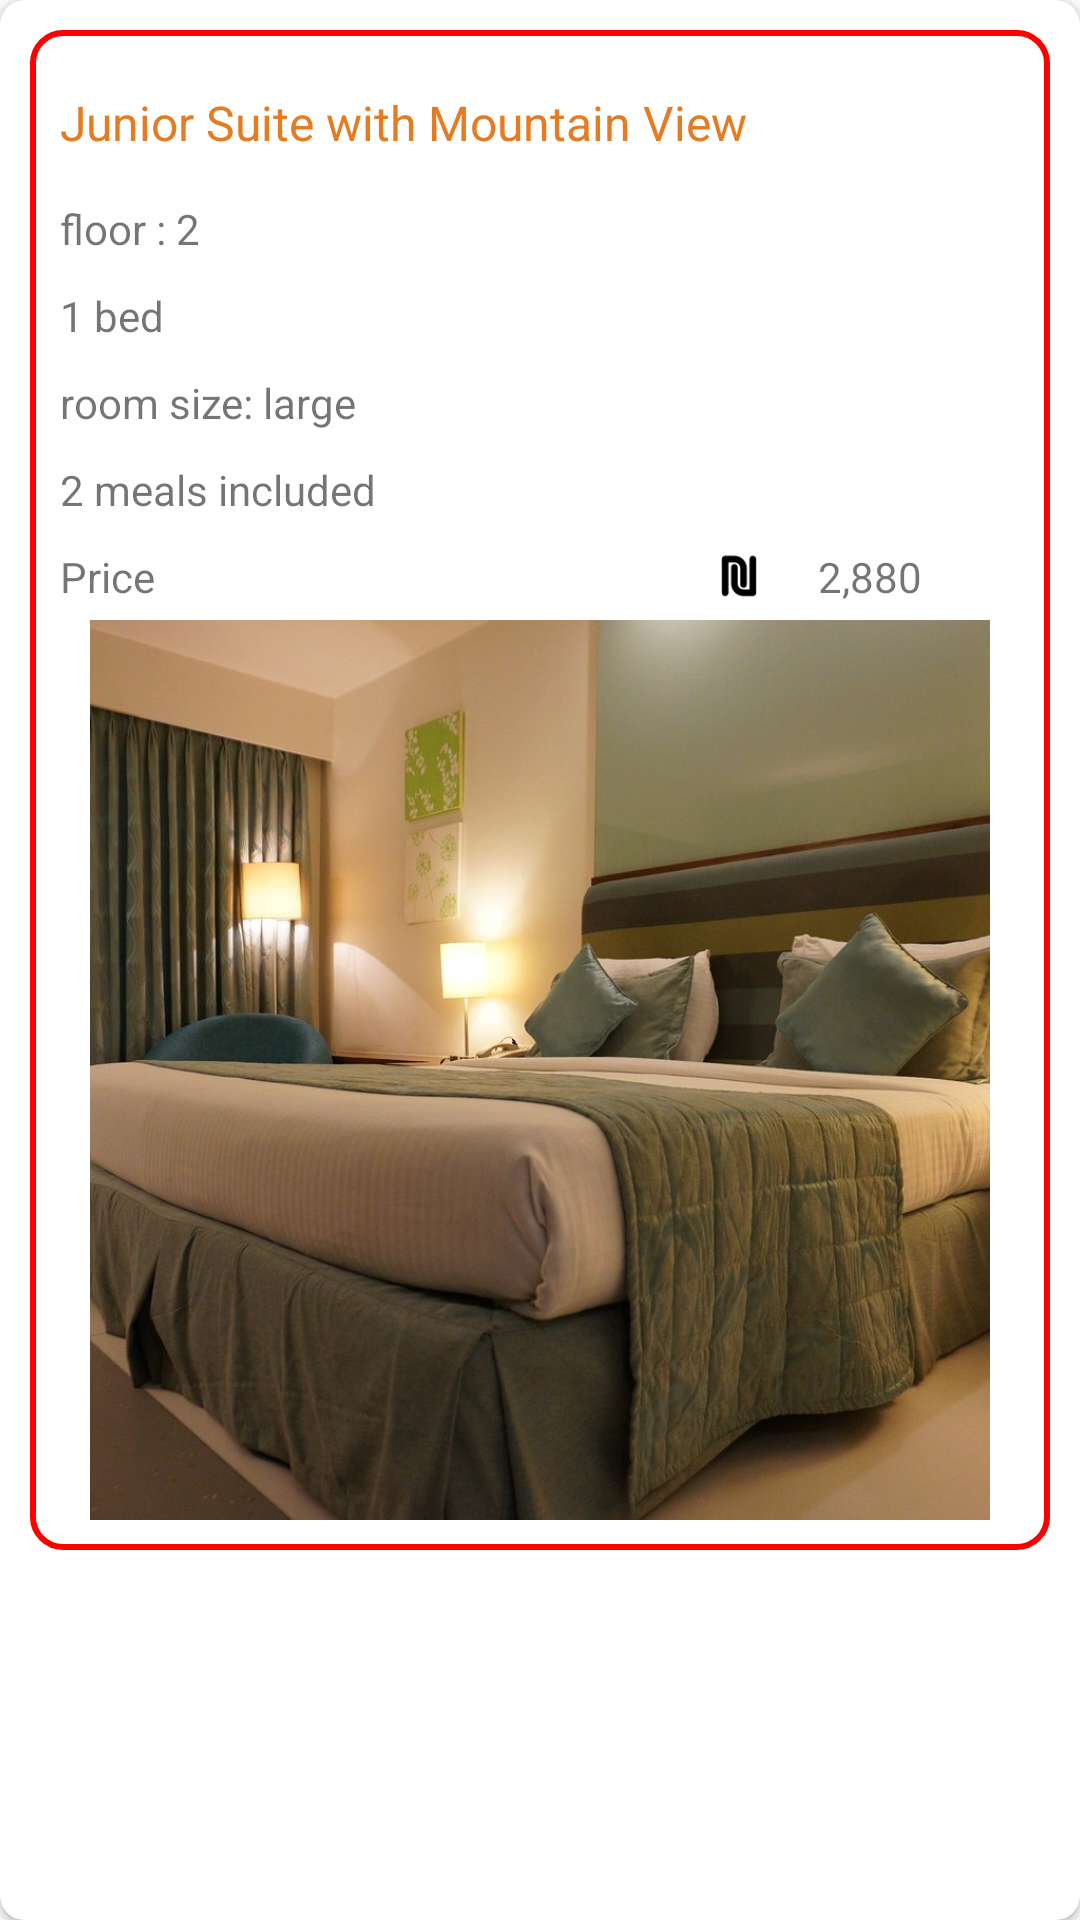

Named icons in this screenshot (1080 × 1920) and their centers, (x=x, y=y):
shekel: (x=739, y=576)
